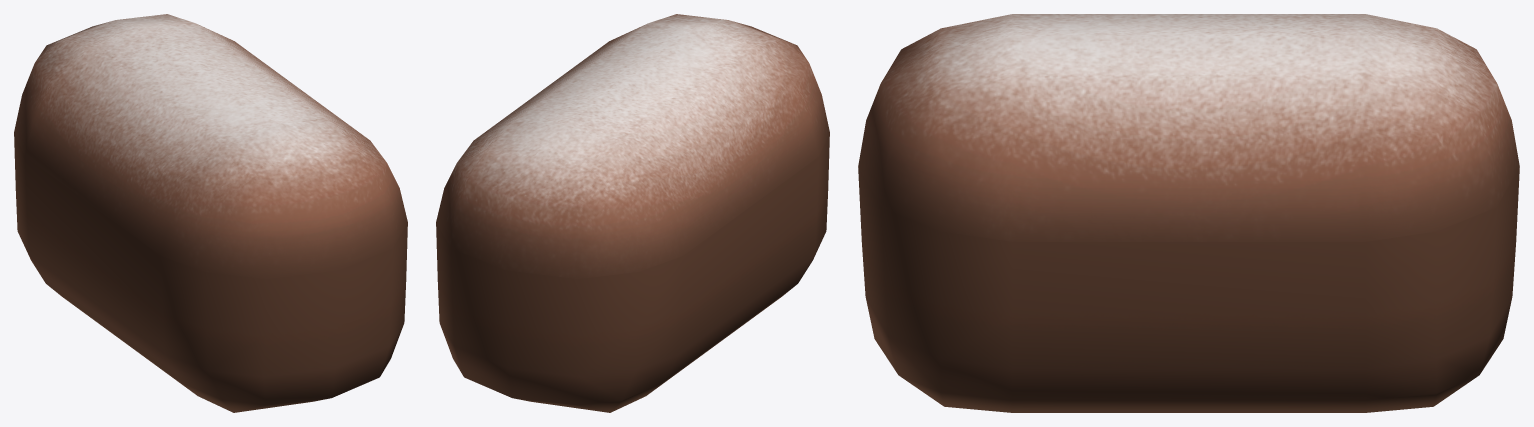
The model's file is Loaf_Dough_Dark.fbx.
3 renders of one model, left to right at view 1: azimuth 30°, elevation 25°; view 2: azimuth 150°, elevation 25°; view 3: azimuth 270°, elevation 25°, orthographic. The views are drawn at different scales.
Parts seen in each view (by area): view 1: Loaf_Dough_Dark; view 2: Loaf_Dough_Dark; view 3: Loaf_Dough_Dark.
Boxes of the visible parts, box(x1,y1,x2,y2) form: Loaf_Dough_Dark: box(14, 14, 407, 412); Loaf_Dough_Dark: box(436, 14, 829, 412); Loaf_Dough_Dark: box(858, 14, 1519, 412).
Bounding box in the file's own units: 33.42 × 33.79 × 62.33.
